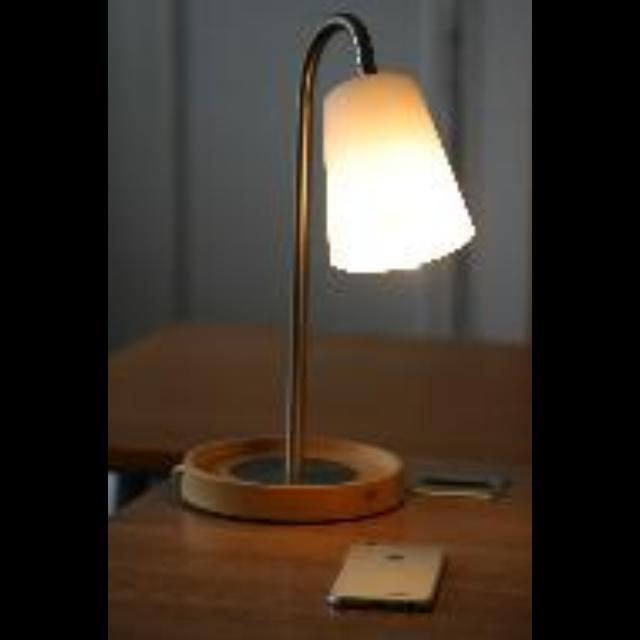PhoneUse: (331, 541, 452, 611)
